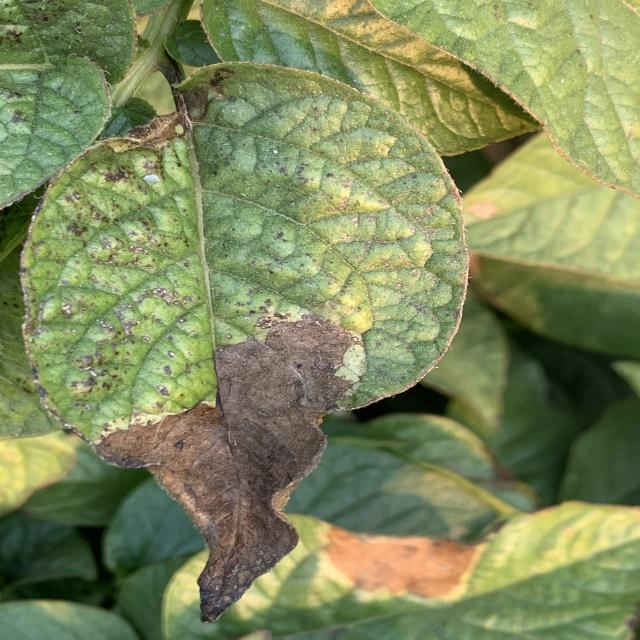lateblight: (95, 315, 362, 621), (323, 526, 478, 598)
